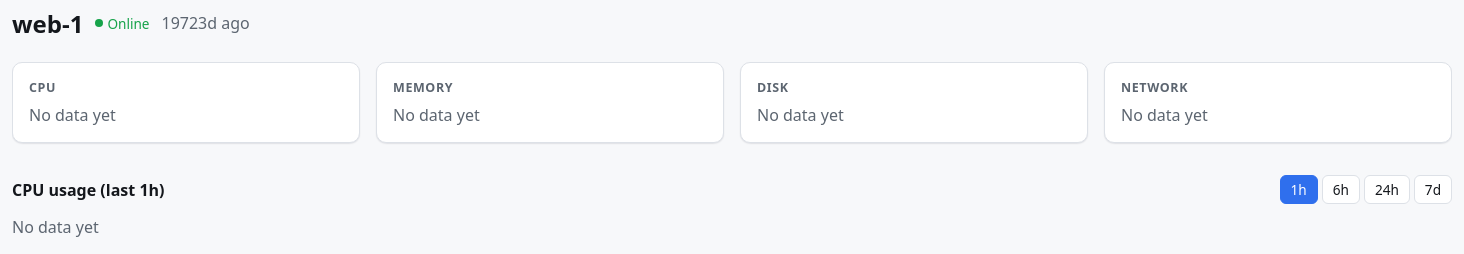
Test: HostPage › time range selector › refetches with the new range and updates the heading when a different button is clicked
Click the button "24h": (1387, 190) [1364, 175, 1410, 204]
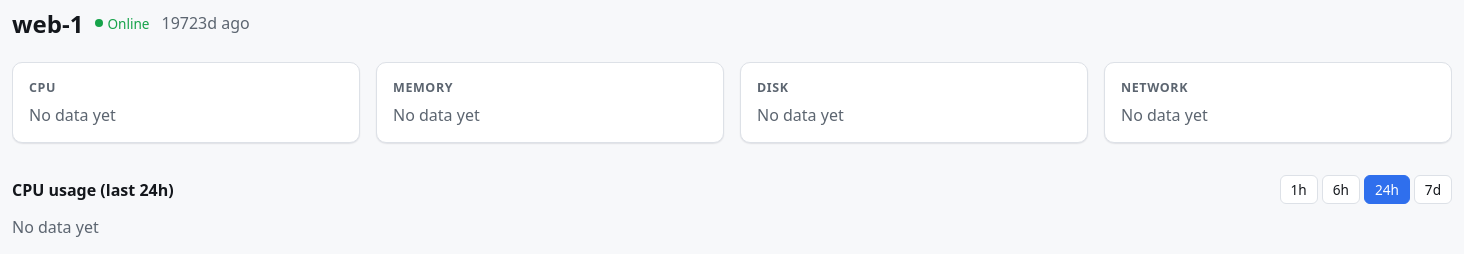
Expected: the heading "CPU usage (last 24h)" is shown, [12, 178, 174, 200]
